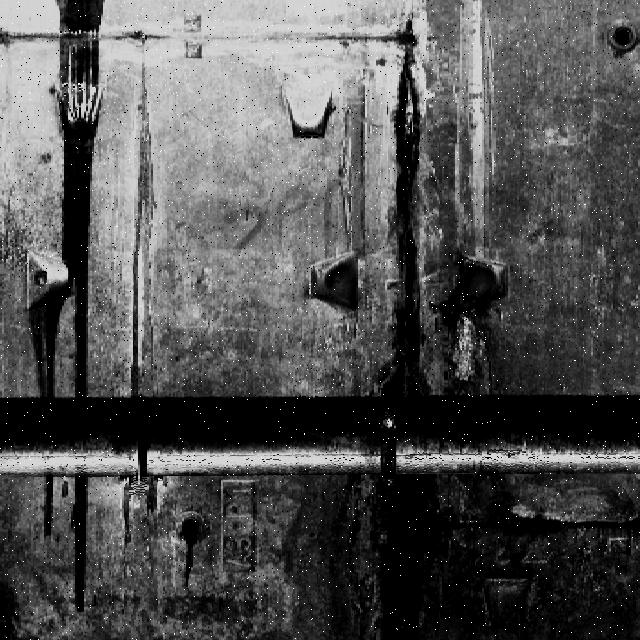leakage: (281, 459, 639, 639), (366, 18, 445, 404), (23, 123, 115, 395), (68, 471, 91, 615), (31, 467, 57, 538)
